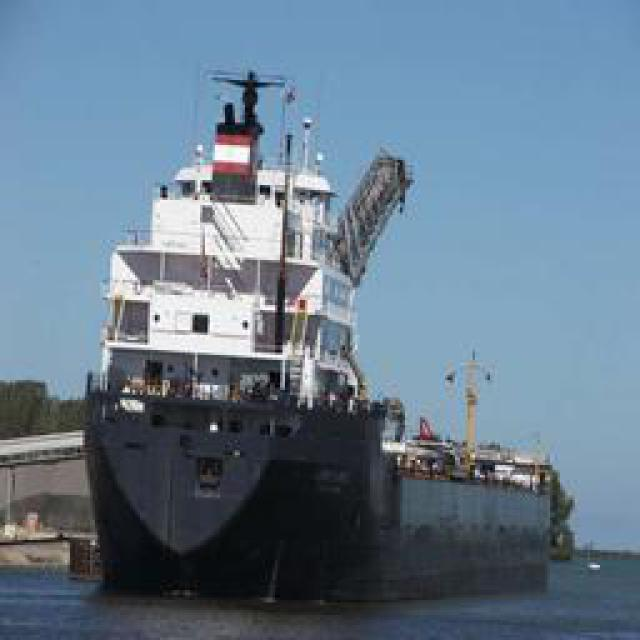Ship: (82, 55, 425, 575)
